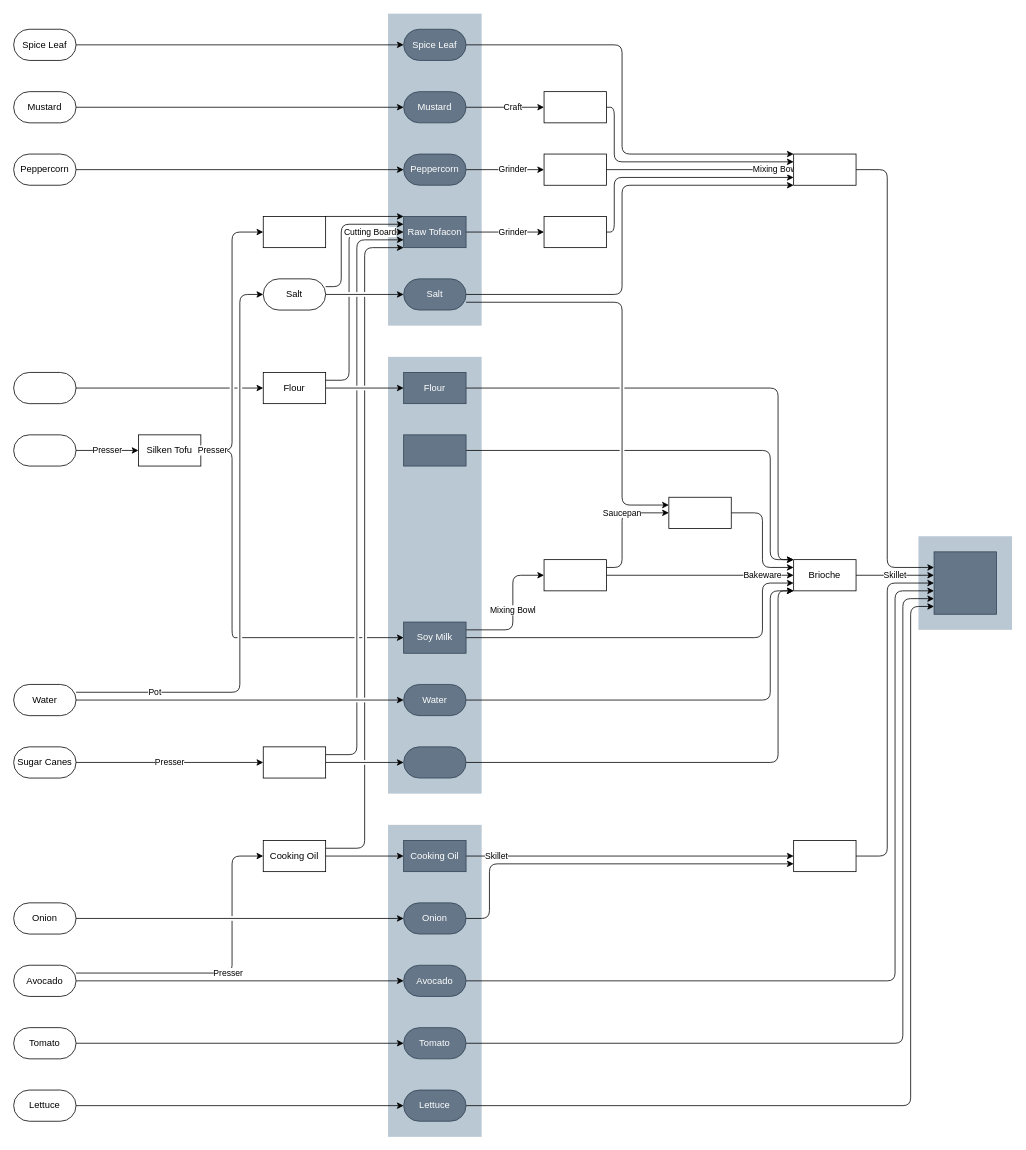
Some shapes in this 1026 by 1150 pixel diagram are drawn without their labels. Here are the shapes that lost their labels. From the top down, the box of each, then its label:
(543, 91, 606, 123): Mustard Seed
(543, 153, 606, 185): Black Pepper
(793, 153, 856, 185): Gourmet Pork Patty
(262, 216, 326, 248): Firm Tofu
(543, 216, 606, 248): Ground Pork
(13, 372, 76, 404): Wheat
(13, 434, 76, 466): Soybean
(403, 434, 466, 466): Egg
(668, 496, 731, 528): Butter
(543, 559, 606, 591): Heavy Cream
(933, 551, 996, 614): Gourmet Pork Burger
(262, 746, 326, 778): Sugar
(403, 746, 466, 778): Sugar (Honey)
(793, 840, 856, 872): Fried Onions
